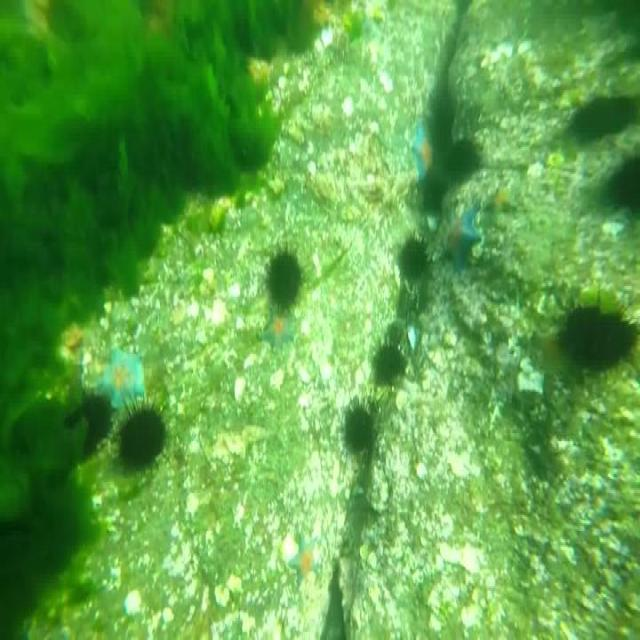echinus: (559, 297, 637, 378), (117, 398, 170, 474), (64, 395, 118, 455), (266, 242, 306, 313), (570, 94, 639, 134), (602, 153, 640, 213), (374, 338, 406, 384), (400, 228, 431, 270), (426, 95, 450, 148), (347, 404, 373, 452), (444, 133, 476, 169), (424, 161, 446, 207)
scallop: (205, 298, 226, 326), (462, 605, 484, 629), (124, 589, 142, 618), (378, 70, 396, 98), (319, 24, 335, 47), (296, 362, 311, 385), (342, 96, 356, 118), (395, 390, 407, 408)
starfish: (441, 202, 480, 274), (92, 348, 145, 397), (409, 118, 436, 178), (291, 536, 318, 588), (260, 314, 294, 354), (488, 175, 517, 218)
